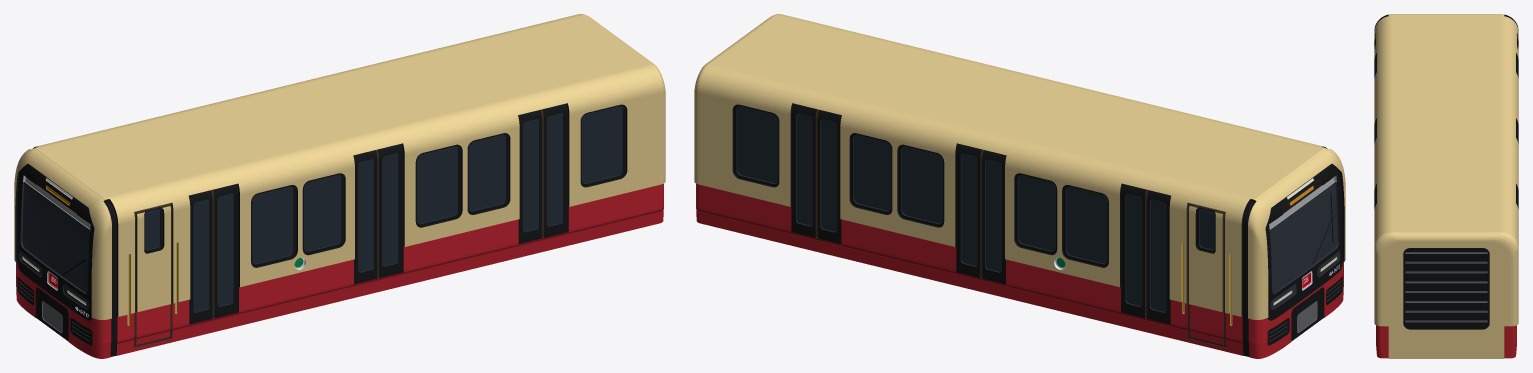
Rendered from sbahn483.glb.
3 views of the same model, side by side, from view 1: azimuth 30°, elevation 25°; view 2: azimuth 150°, elevation 25°; view 3: azimuth 270°, elevation 25° (orthographic). The views are drawn at different scales.
Visible parts, largest first — view 1: sbahn_sbahn483; view 2: sbahn_sbahn483; view 3: sbahn_sbahn483.
Boxes of the visible parts, left/top/right/bottom form: sbahn_sbahn483: left=14, top=14, right=665, bottom=358; sbahn_sbahn483: left=694, top=14, right=1345, bottom=358; sbahn_sbahn483: left=1374, top=14, right=1518, bottom=358.
Size of the model in its own units: 150 by 38 by 40.
